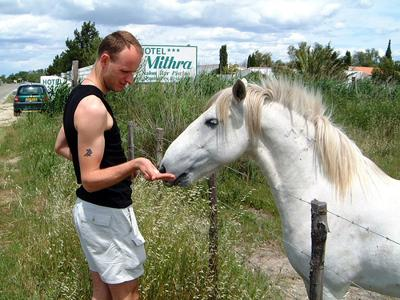person: (53, 31, 178, 299)
